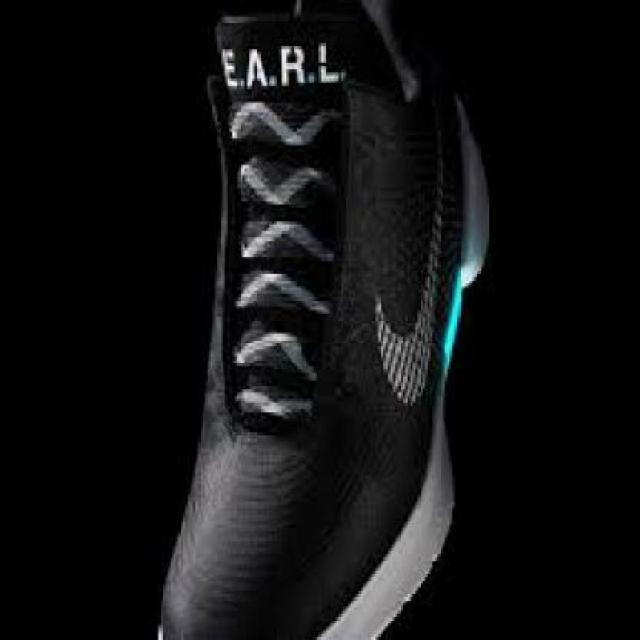Nike: (367, 106, 445, 403)
